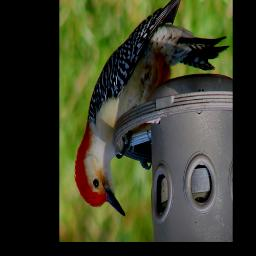Woodpecker: (75, 0, 229, 216)
